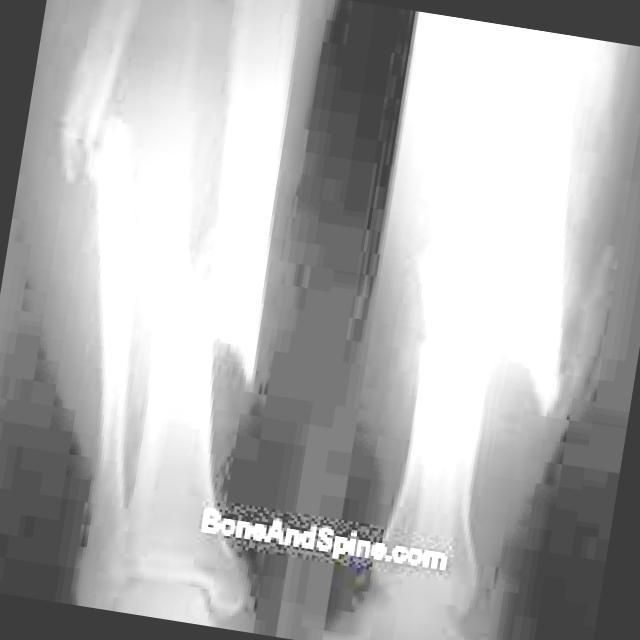Comminuted Fracture: (398, 289, 563, 432), (174, 267, 266, 404), (53, 107, 156, 198)
